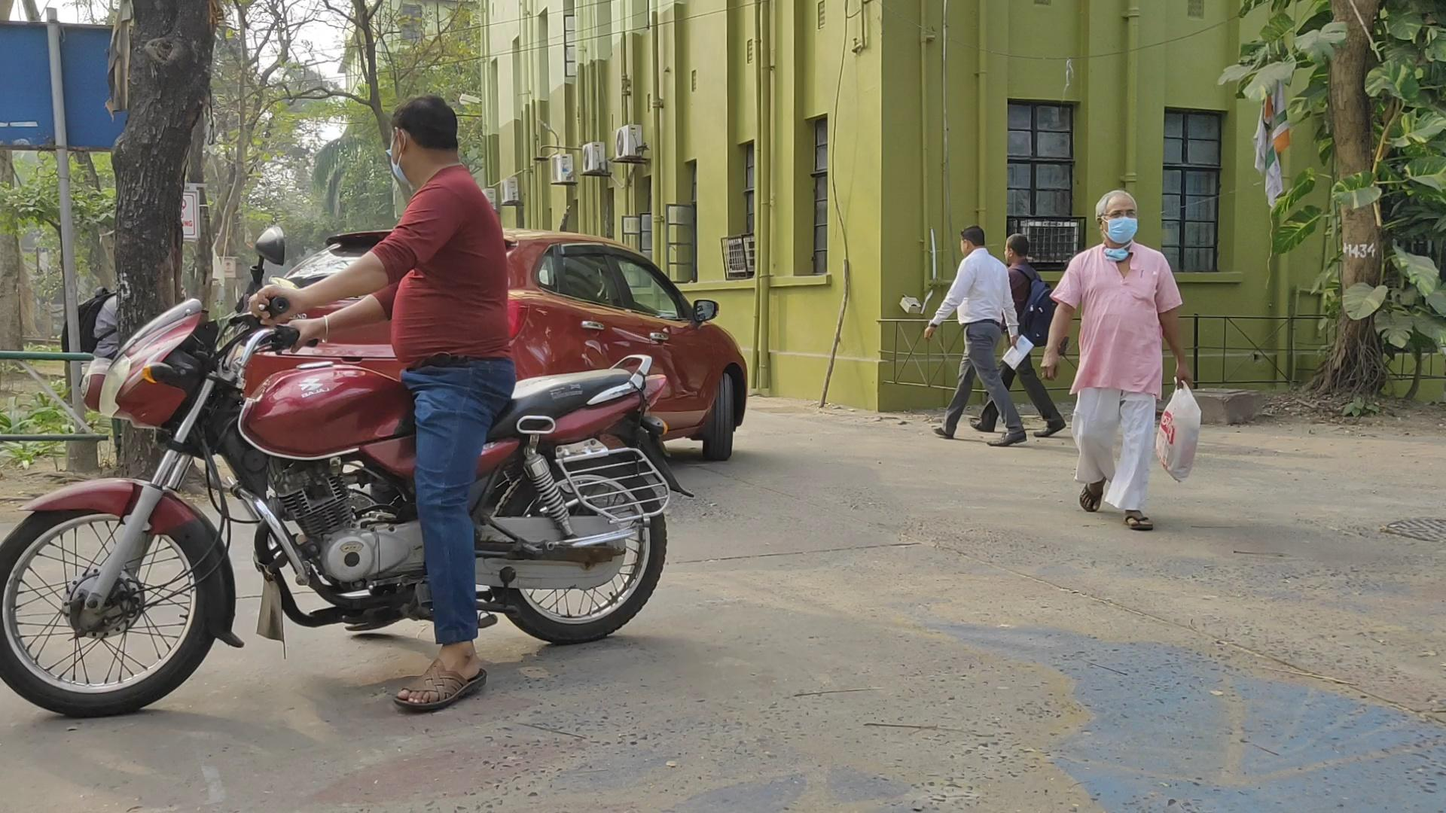bike: (3, 99, 670, 724)
car: (229, 228, 746, 482)
